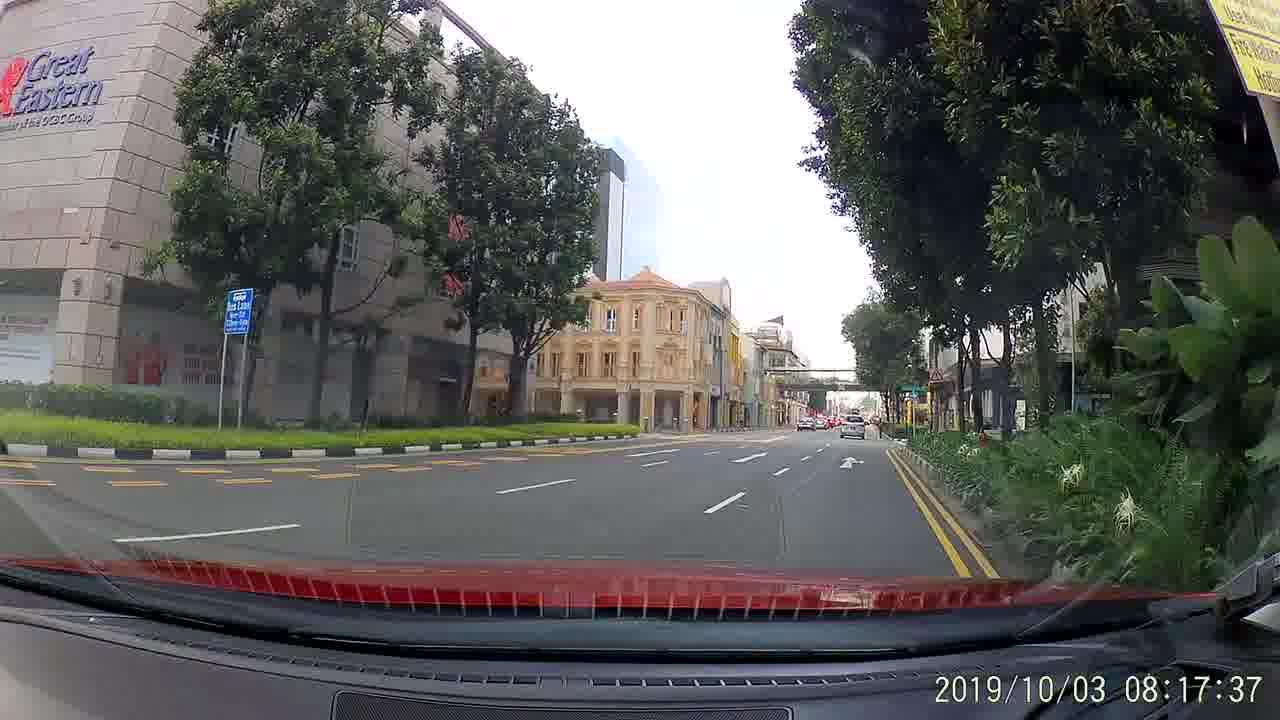car: (840, 413, 866, 437), (795, 413, 813, 431), (813, 417, 834, 432)
